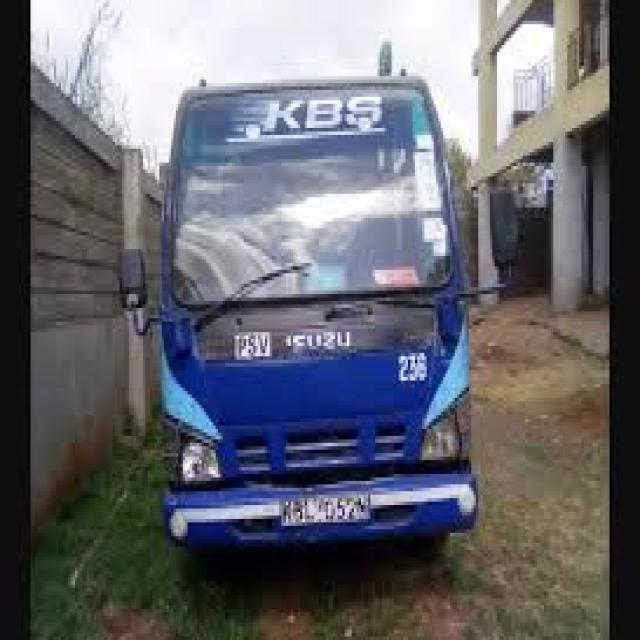bus: (108, 24, 516, 604)
